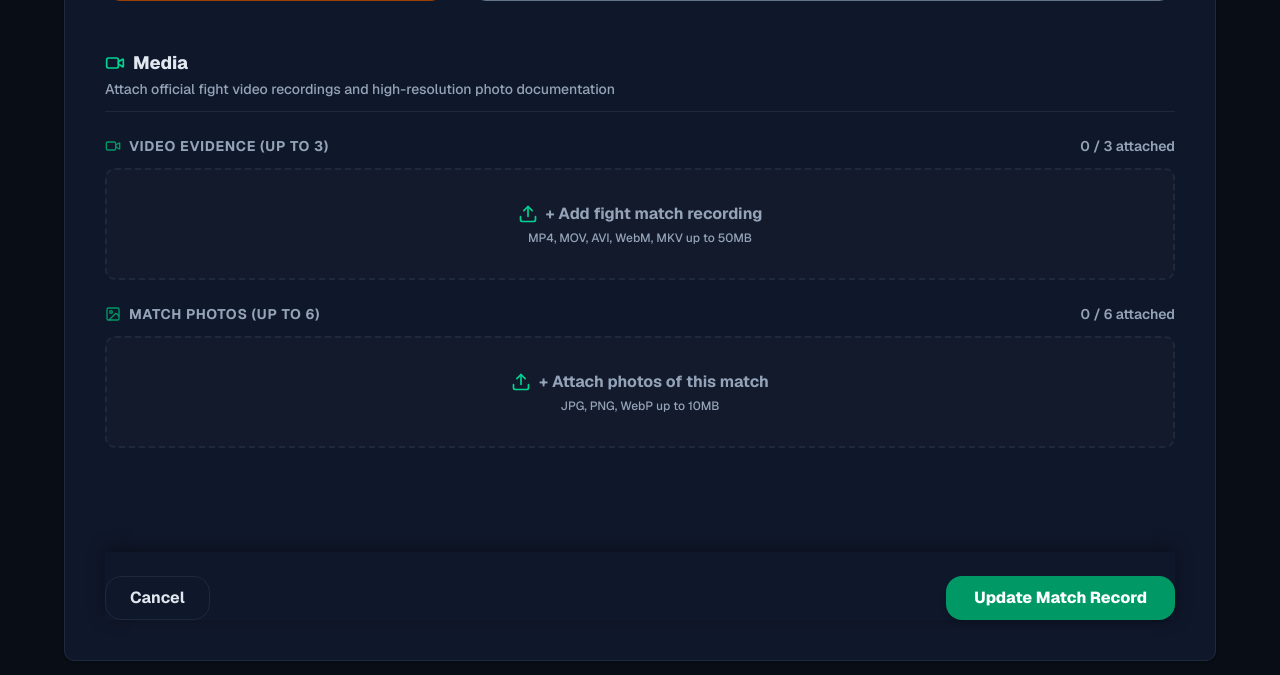
MatchRecordForm edit path — cases (a) to (j) [FIXTURE] › Schema contract — dropped user-editable field surfaces visible error › shows Save Failed banner when filterAllowedColumns drops a user-editable field
(page scrolled)
Step 1. Click the button "Update Match Record" → [1061, 598], box [946,576,1175,620]
(page scrolled)
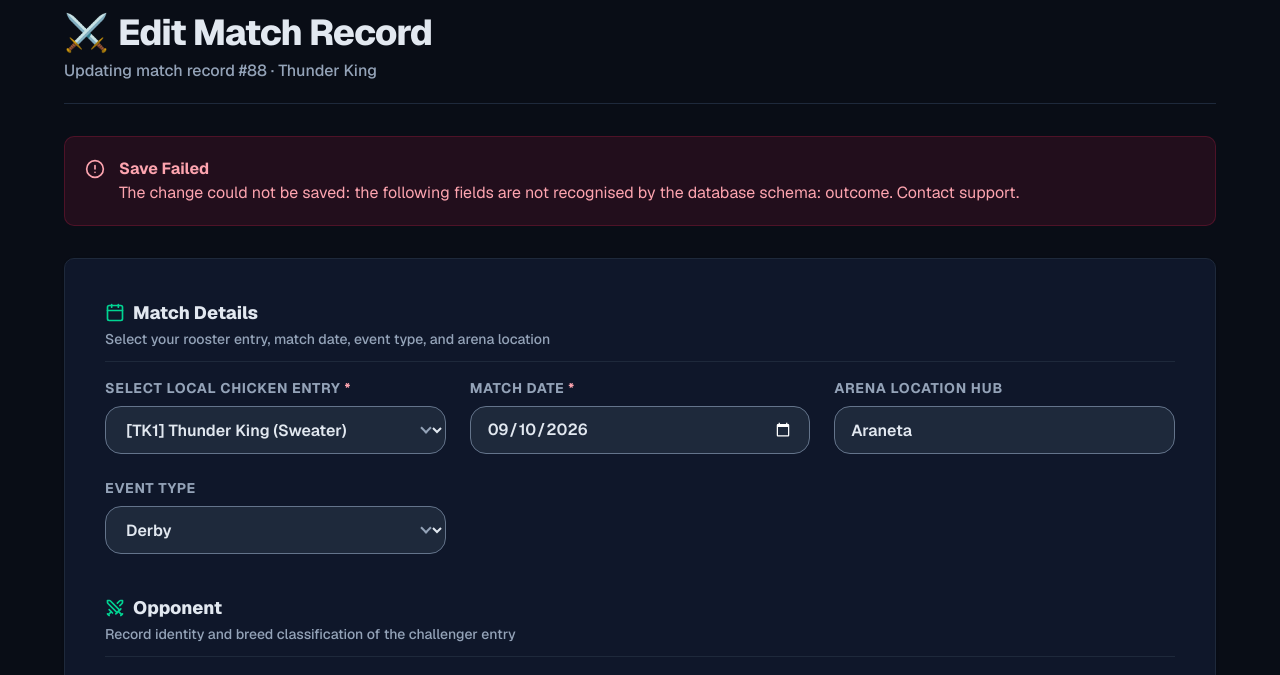
Expected: the message is shown, [64,136,1216,226]
Expected: the message shows "could not be saved", [119,182,1019,203]
